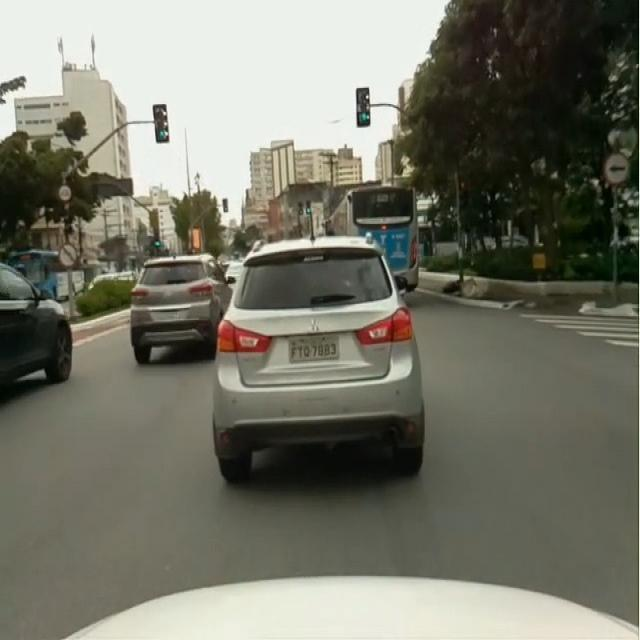bus: (330, 186, 418, 289)
car: (212, 236, 425, 482), (130, 255, 231, 363), (0, 264, 72, 383)
traffic-lights: (152, 104, 170, 143), (356, 88, 371, 127)
